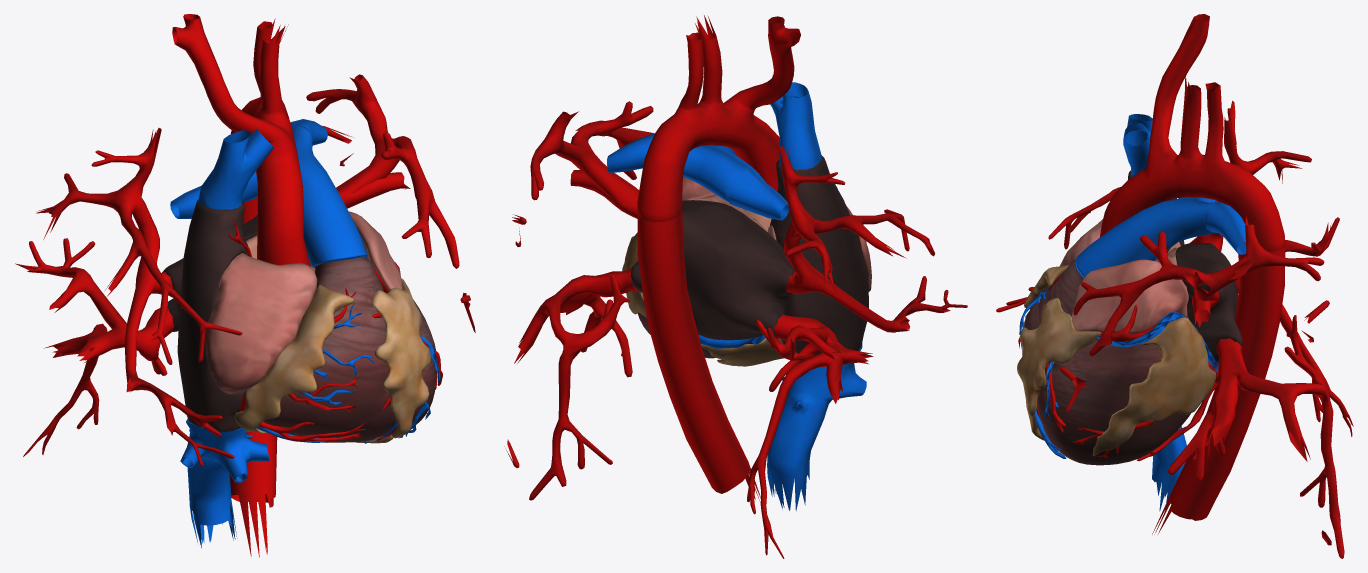
The model's file is 07-05-heart-great-vessels.glb.
The picture shows the model from 3 angles, left to right: view 1: azimuth 30°, elevation 25°; view 2: azimuth 150°, elevation 25°; view 3: azimuth 270°, elevation 25°; orthographic projection. The views are drawn at different scales.
Parts seen in each view (by area): view 1: Right_ventricle, Right_auricle, Right_superior_pulmonary_vein, Right_atrium_to_superior_vena_cava, Left_superior_pulmonary_vein, Right_inferior_pulmonary_vein, Aortic_arch, Right_epicardial_fat, Inferior_vena_cava, Anterior_epicardial_fat, Pulmonary_trunk, Brachiocephalic_artery (+10 smaller); view 2: Descending_aorta_of_thorax, Posterior_wall_of_left_atrium, Aortic_arch, Right_atrium_to_superior_vena_cava, Left_inferior_pulmonary_vein, Right_superior_pulmonary_vein, Right_inferior_pulmonary_vein, Inferior_vena_cava, Left_superior_pulmonary_vein, Superior_vena_cava, Brachiocephalic_artery, Pulmonary_trunk (+6 smaller); view 3: Left_ventricle, Descending_aorta_of_thorax, Left_inferior_pulmonary_vein, Aortic_arch, Left_epicardial_fat, Left_superior_pulmonary_vein, Pulmonary_trunk, Left_auricle, Anterior_epicardial_fat, Posterior_wall_of_left_atrium, Brachiocephalic_artery, Right_superior_pulmonary_vein (+11 smaller).
Part boxes in pixels (left/top/right/bottom): Right_ventricle: left=263, top=257, right=395, bottom=442; Right_auricle: left=205, top=253, right=317, bottom=393; Right_superior_pulmonary_vein: left=36, top=127, right=242, bottom=466; Right_atrium_to_superior_vena_cava: left=177, top=199, right=248, bottom=431; Left_superior_pulmonary_vein: left=306, top=74, right=475, bottom=332; Right_inferior_pulmonary_vein: left=15, top=238, right=173, bottom=456; Aortic_arch: left=230, top=97, right=311, bottom=266; Right_epicardial_fat: left=234, top=284, right=354, bottom=431; Inferior_vena_cava: left=180, top=419, right=269, bottom=548; Anterior_epicardial_fat: left=373, top=278, right=430, bottom=438; Pulmonary_trunk: left=242, top=124, right=367, bottom=267; Brachiocephalic_artery: left=172, top=14, right=283, bottom=142; Descending_aorta_of_thorax: left=637, top=211, right=760, bottom=502; Posterior_wall_of_left_atrium: left=630, top=200, right=796, bottom=340; Aortic_arch: left=637, top=97, right=779, bottom=221; Right_atrium_to_superior_vena_cava: left=770, top=155, right=868, bottom=362; Left_inferior_pulmonary_vein: left=504, top=268, right=638, bottom=500; Right_superior_pulmonary_vein: left=779, top=146, right=967, bottom=332; Right_inferior_pulmonary_vein: left=747, top=314, right=873, bottom=558; Inferior_vena_cava: left=767, top=343, right=866, bottom=511; Left_superior_pulmonary_vein: left=512, top=101, right=653, bottom=246; Superior_vena_cava: left=770, top=82, right=821, bottom=169; Brachiocephalic_artery: left=731, top=16, right=800, bottom=109; Pulmonary_trunk: left=683, top=145, right=760, bottom=203; Left_ventricle: left=1037, top=332, right=1190, bottom=465; Descending_aorta_of_thorax: left=1152, top=246, right=1285, bottom=534; Left_inferior_pulmonary_vein: left=1167, top=315, right=1344, bottom=558; Aortic_arch: left=1100, top=148, right=1285, bottom=251; Left_epicardial_fat: left=1092, top=317, right=1216, bottom=456; Left_superior_pulmonary_vein: left=1059, top=216, right=1329, bottom=411; Pulmonary_trunk: left=1075, top=197, right=1217, bottom=277; Left_auricle: left=1071, top=259, right=1188, bottom=332; Anterior_epicardial_fat: left=1017, top=298, right=1101, bottom=440; Posterior_wall_of_left_atrium: left=1175, top=243, right=1242, bottom=362; Brachiocephalic_artery: left=1148, top=14, right=1209, bottom=154; Right_superior_pulmonary_vein: left=996, top=101, right=1311, bottom=312.
Bounding box in the file's own units: 0.1685 × 0.2593 × 0.1674.
76 materials, 76 textured.
